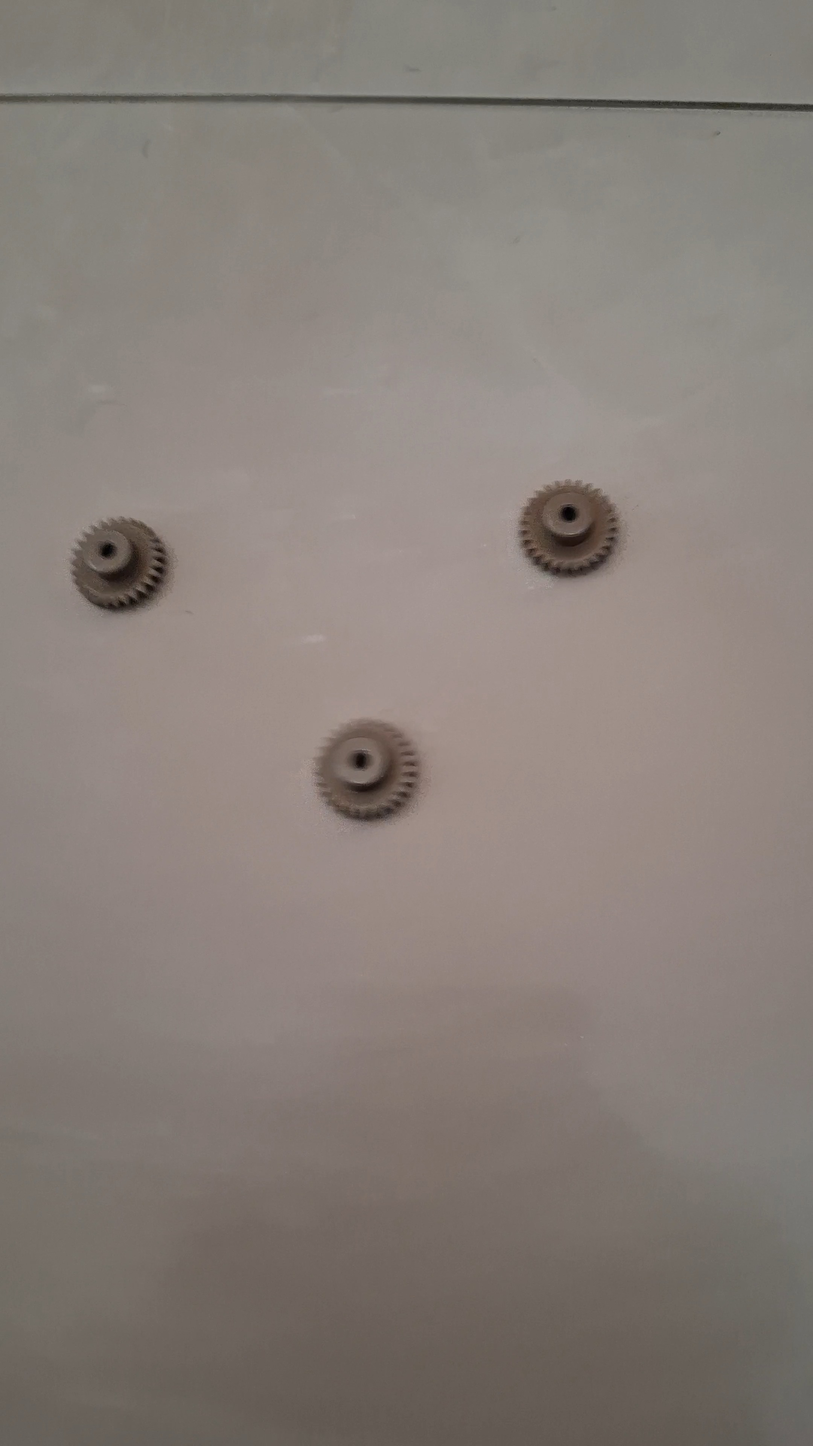spur gear: (315, 720, 419, 819), (519, 481, 618, 574), (72, 518, 167, 608)
